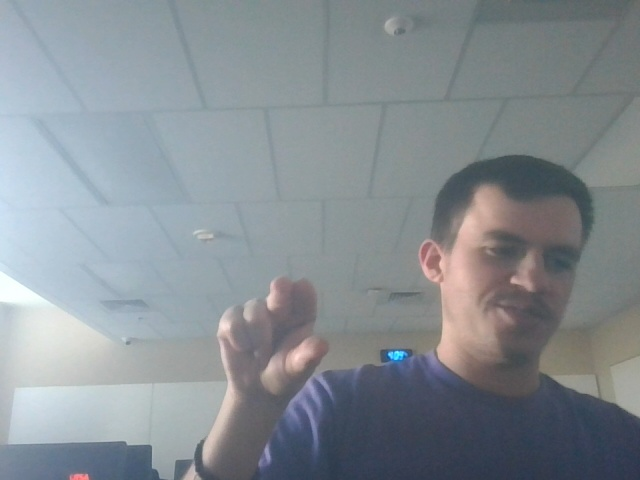no: (208, 265, 338, 403)
